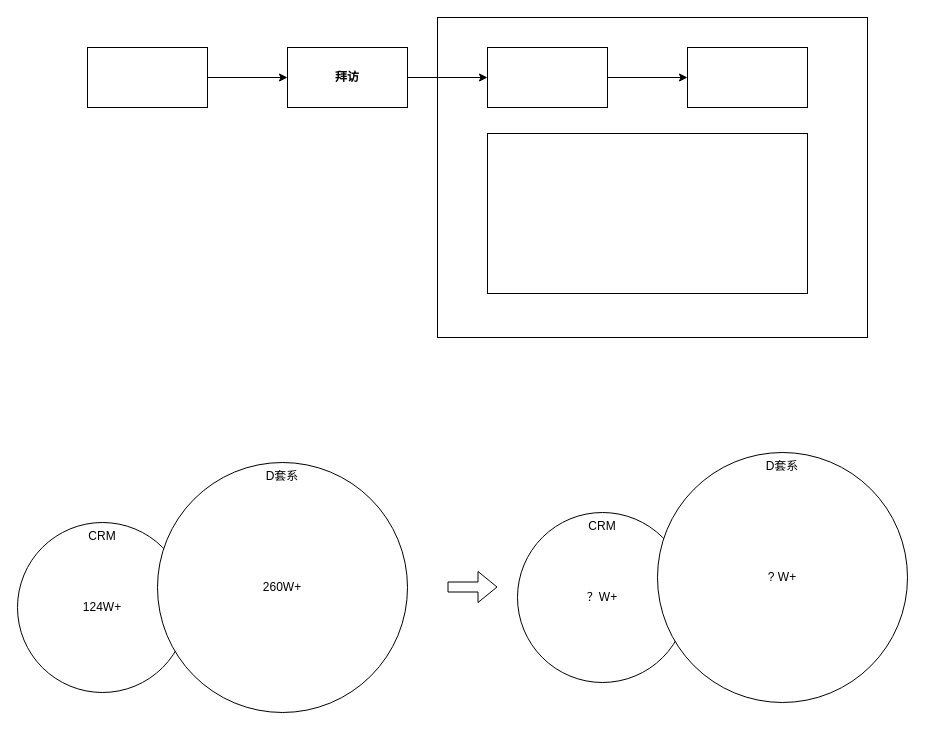
Some shapes in this 925 by 730 pixel diagram are drawn without their labels. Here are the shapes that lost their labels. From the top down, the box of each, then its label:
(86, 46, 208, 108): 扫街
(486, 46, 608, 108): 进货
(486, 132, 808, 294): 获取营业执照 社会统一信用代码：xxxxxxx
